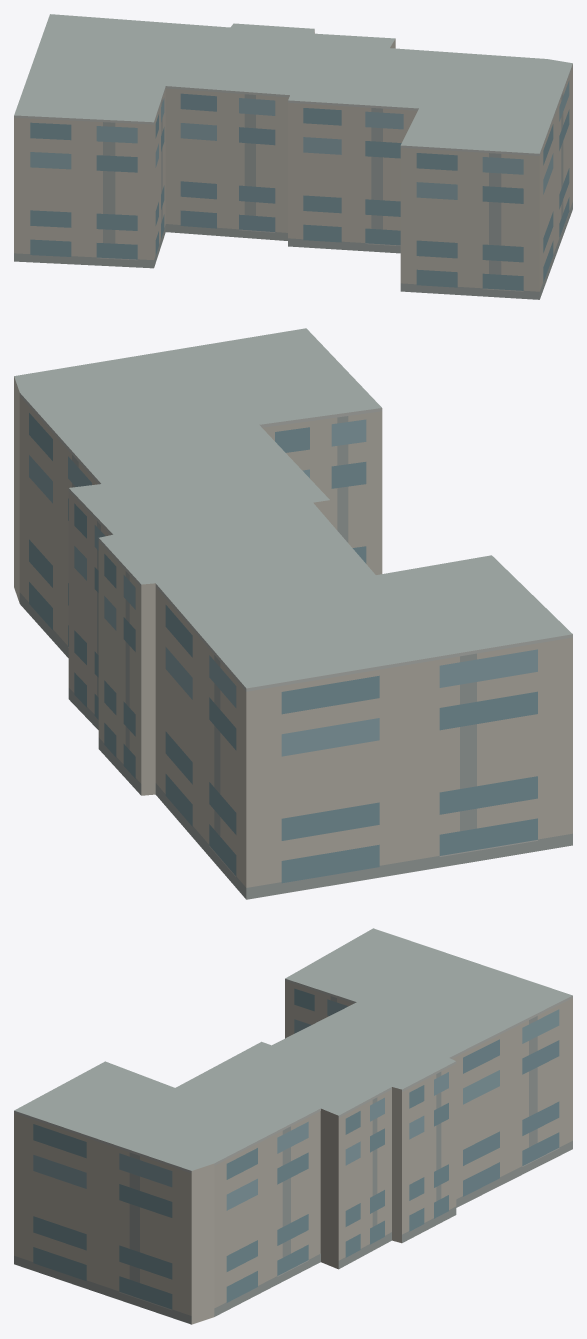
File: residential-d9646121-f00b-4fbe-a098-382fb3cae0ae.glb
3 renders of one model, top to bottom at view 1: azimuth 30°, elevation 25°; view 2: azimuth 150°, elevation 25°; view 3: azimuth 270°, elevation 25°, orthographic. The views are drawn at different scales.
Parts seen in each view (by area): view 1: residential-d9646121-f00b-4fbe-a098-382fb3cae0ae.tmp; view 2: residential-d9646121-f00b-4fbe-a098-382fb3cae0ae.tmp; view 3: residential-d9646121-f00b-4fbe-a098-382fb3cae0ae.tmp.
Boxes of the visible parts, x1=… form: residential-d9646121-f00b-4fbe-a098-382fb3cae0ae.tmp: x1=14, y1=14, x2=572, y2=299; residential-d9646121-f00b-4fbe-a098-382fb3cae0ae.tmp: x1=14, y1=328, x2=572, y2=899; residential-d9646121-f00b-4fbe-a098-382fb3cae0ae.tmp: x1=14, y1=928, x2=572, y2=1324.
Size of the model in its own units: 51.65 by 15.25 by 50.27.
